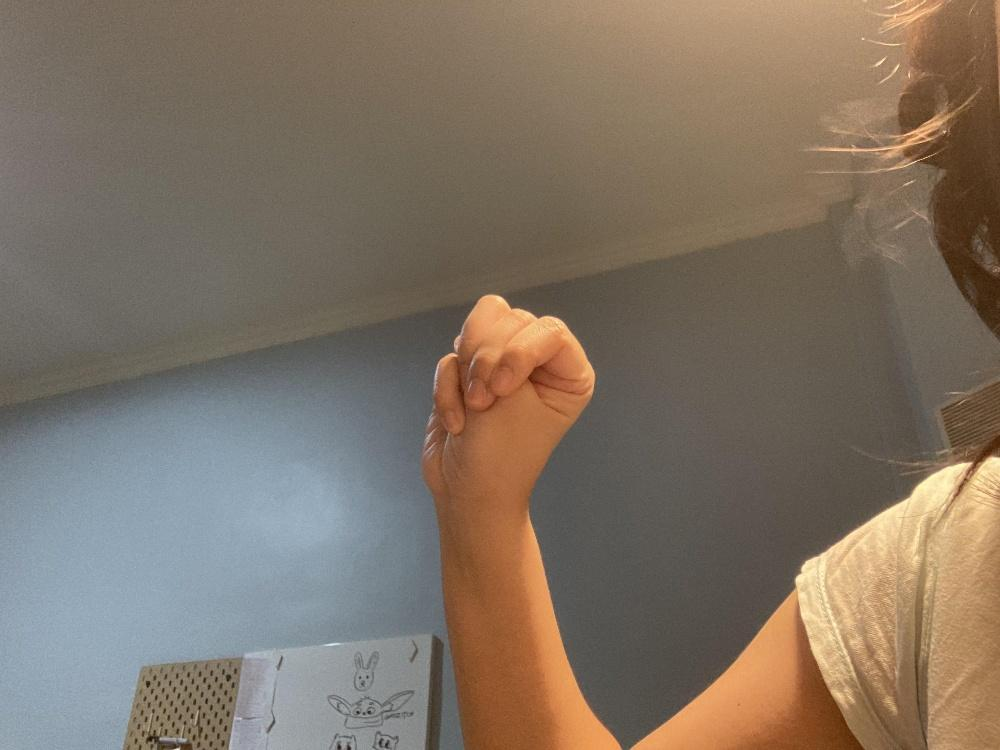m: (420, 293, 594, 505)
